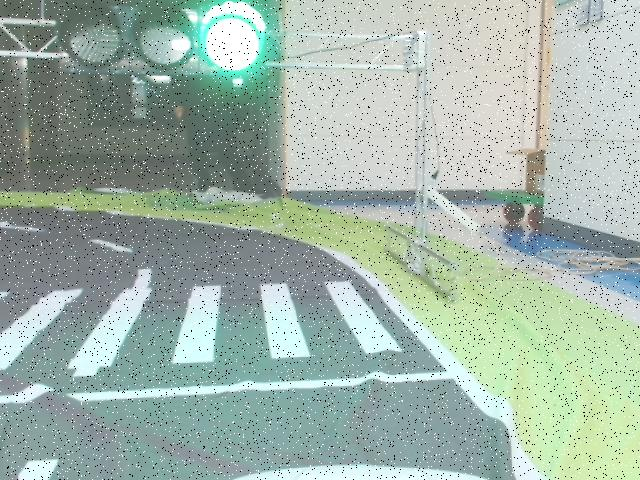crosswalk: (0, 280, 401, 366)
traffic light-green-: (59, 0, 266, 75)
